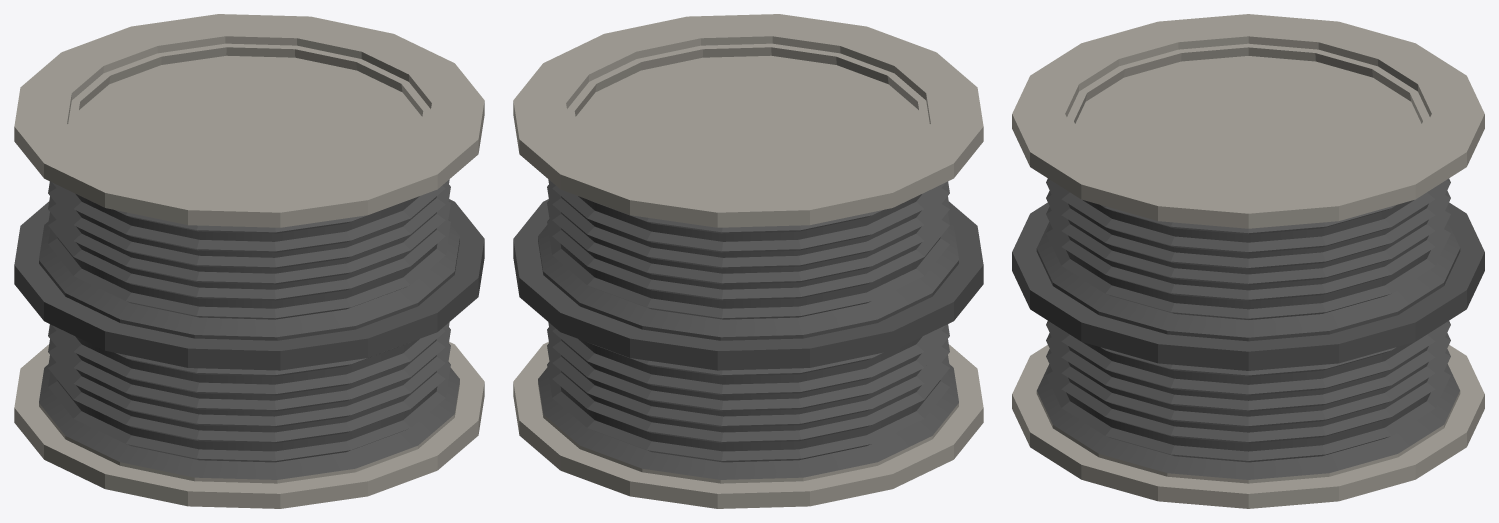
Rendered from cabledrum_03.fbx.
3 renders of one model, left to right at view 1: azimuth 30°, elevation 25°; view 2: azimuth 150°, elevation 25°; view 3: azimuth 270°, elevation 25°, orthographic.
Parts seen in each view (by area): view 1: cabledrum_03; view 2: cabledrum_03; view 3: cabledrum_03.
Boxes of the visible parts, bbox=[...] form: cabledrum_03: bbox=[14, 14, 484, 508]; cabledrum_03: bbox=[513, 14, 983, 508]; cabledrum_03: bbox=[1012, 14, 1484, 508].
Size of the model in its own units: 86.57 by 59.67 by 86.57.
